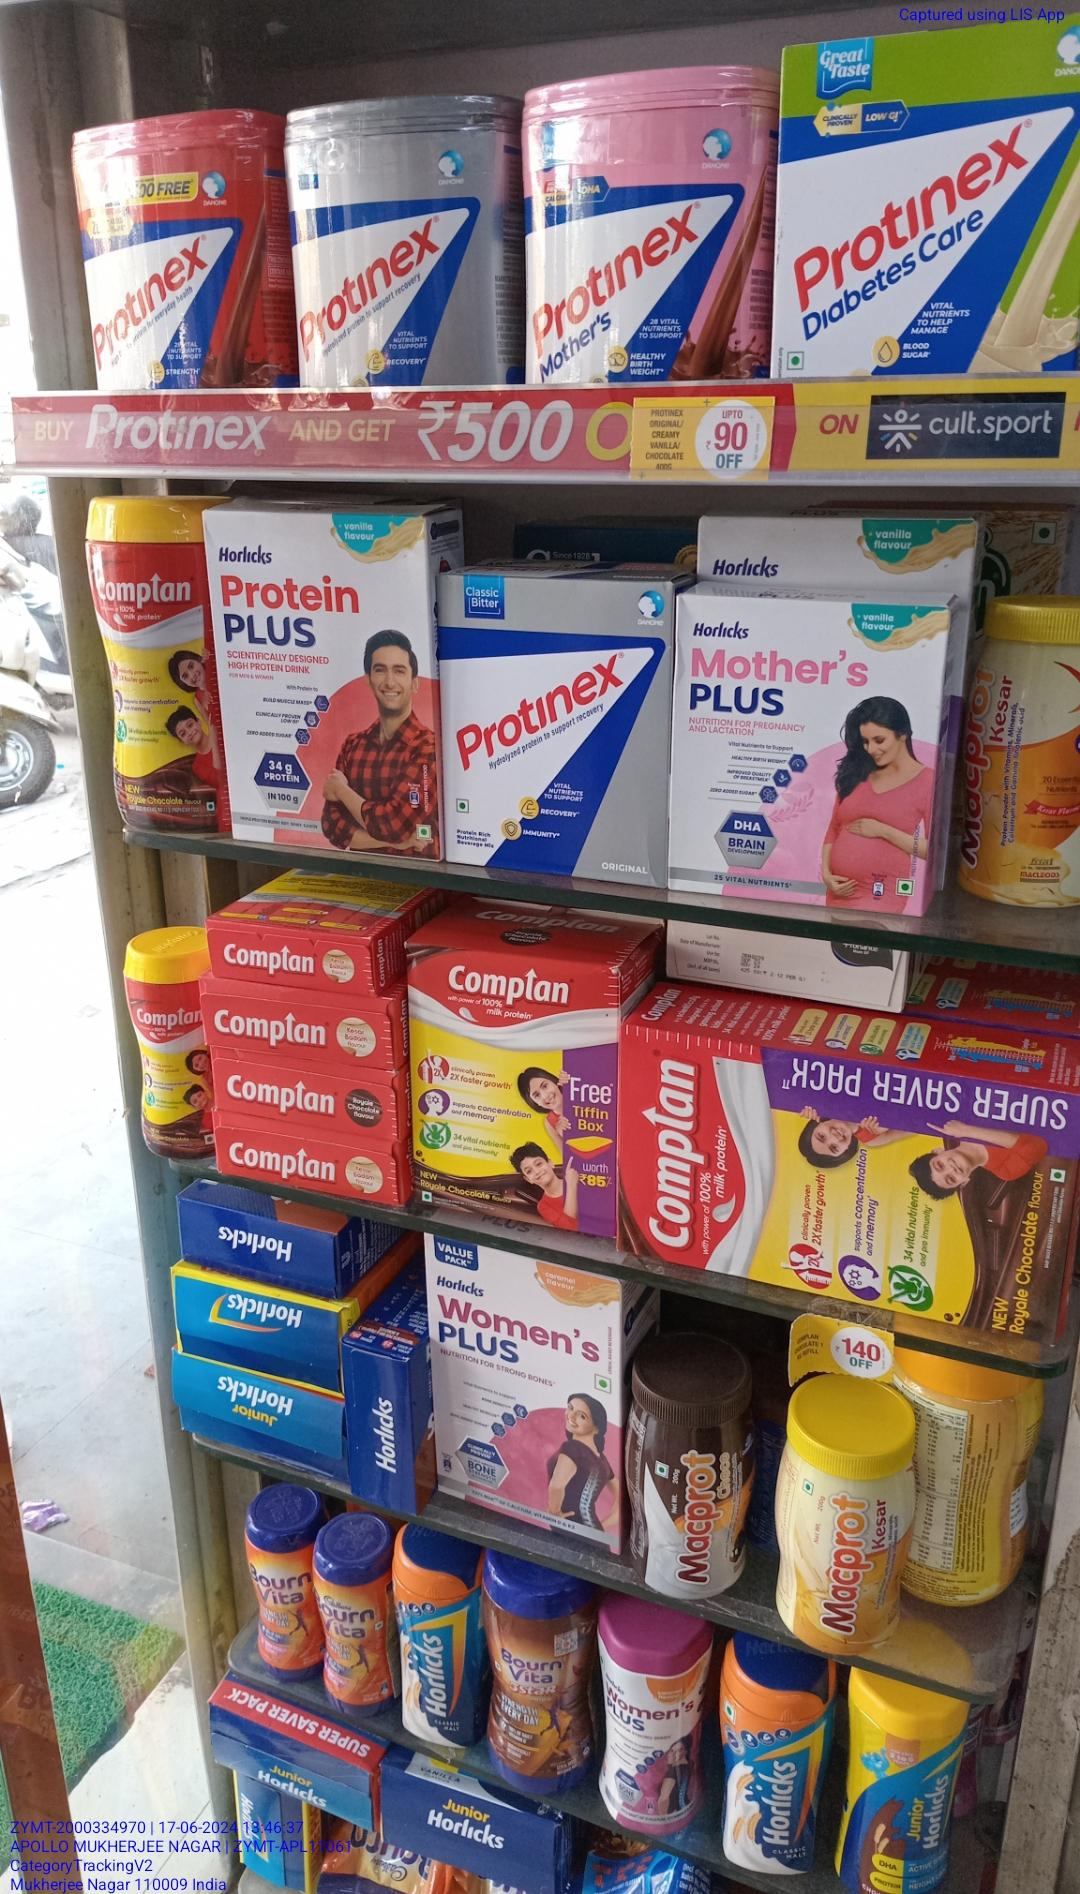BOURN_VITA_500_G_JAR: (316, 1541, 388, 1716), (241, 1497, 308, 1678)
BOURN_VITA_FIVE_STAR_MAGIC_500_G_JAR: (487, 1548, 599, 1791)
COMPLAN_CHOCOLATE_500_GMS_JAR: (87, 492, 212, 831), (121, 930, 195, 1153)
COMPLAN_CHOCOLATE_500_GMS_PACK: (414, 943, 608, 1205)
HORLICK_CLASSIC_MALT_500_G_JAR: (714, 1634, 822, 1880), (397, 1552, 478, 1746)
PROTINEX_CHOCOLATE_400_G_JAR: (72, 118, 271, 380)
PROTINEX_ORIGINAL_400_G_JAR: (286, 108, 509, 386)
